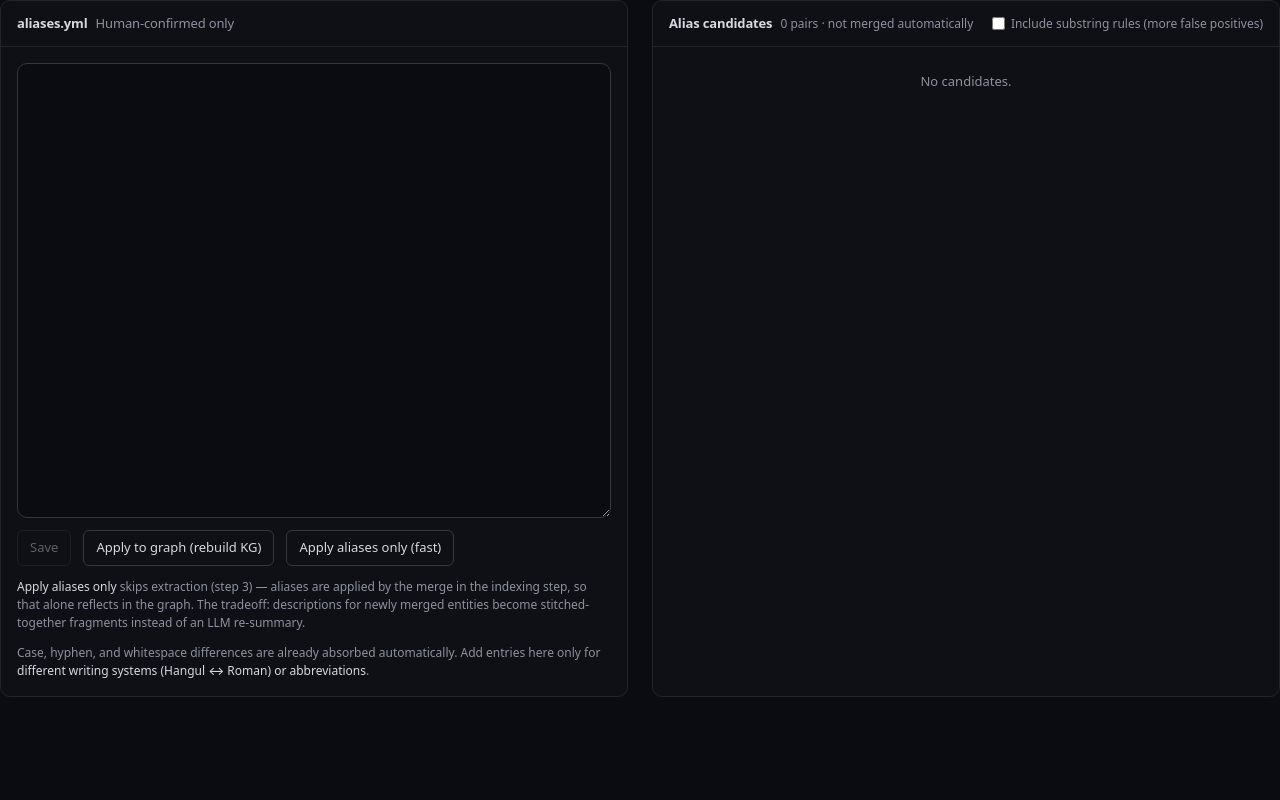
Test: AliasPanel — stopping a failed load from wiping the file › a successful load opens it —— an empty file is treated as normal
This screenshot has width=1280, height=800.
Expected: the button "Save" is disabled, [17, 530, 71, 566]
Type "Taehyun Hwang: [taehyun]" into the text box named "Alias file content" at (314, 291), box [17, 63, 611, 518]
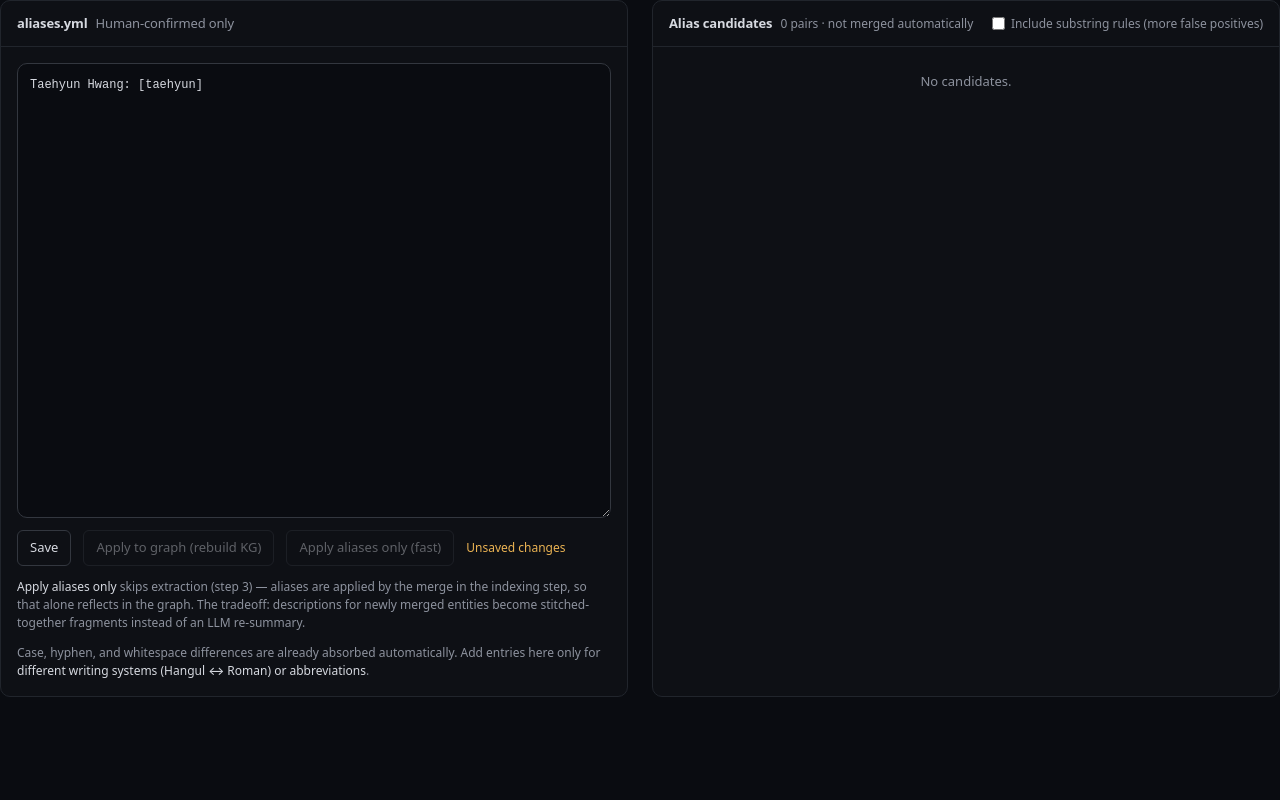
Now the button "Save" is enabled, box [17, 530, 71, 566]
